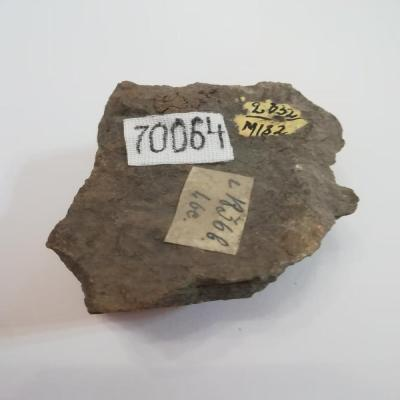mineralogy: (45, 81, 359, 316)
